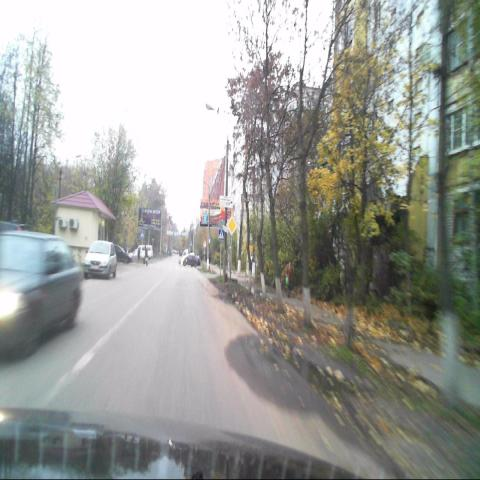2_1: (226, 216, 237, 236)
